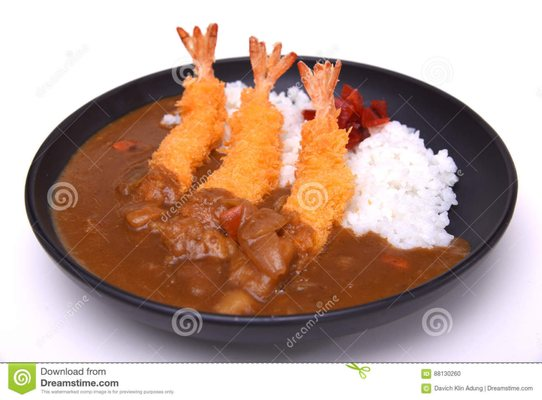sushi: (22, 21, 521, 342)
